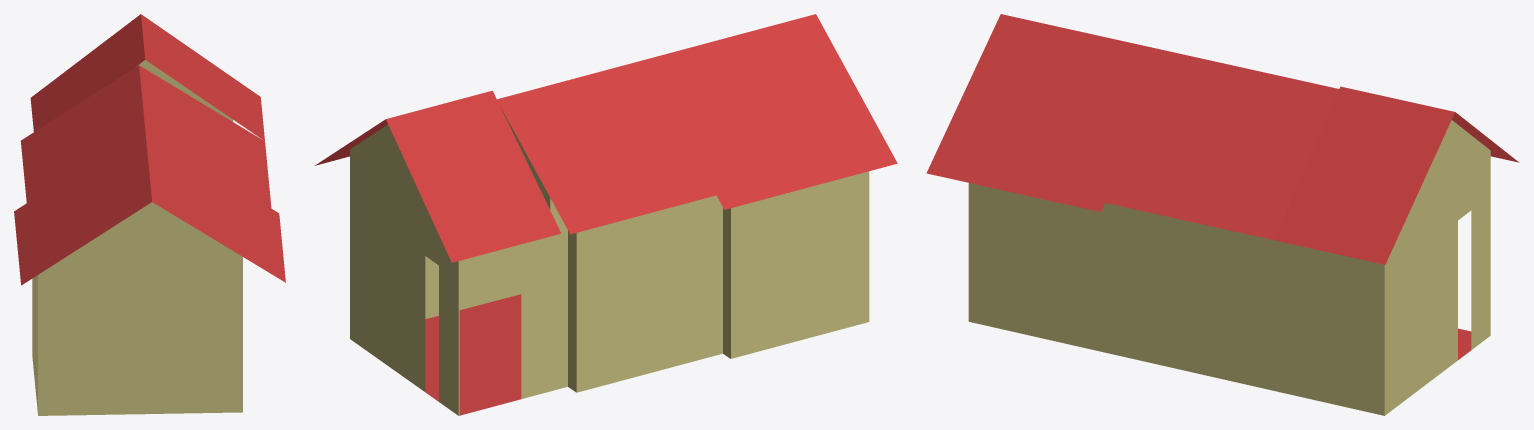
3 renders of one model, left to right at view 1: azimuth 30°, elevation 25°; view 2: azimuth 150°, elevation 25°; view 3: azimuth 270°, elevation 25°, orthographic. The views are drawn at different scales.
Bounding box in the file's own units: 24.2 × 28.09 × 14.05.
